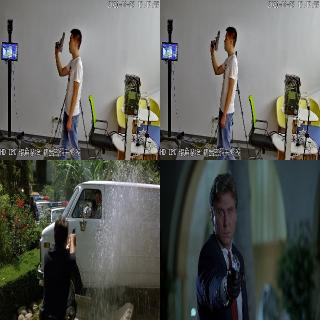gun: (228, 252, 241, 300), (53, 29, 66, 51), (210, 29, 220, 51), (68, 224, 78, 242)
